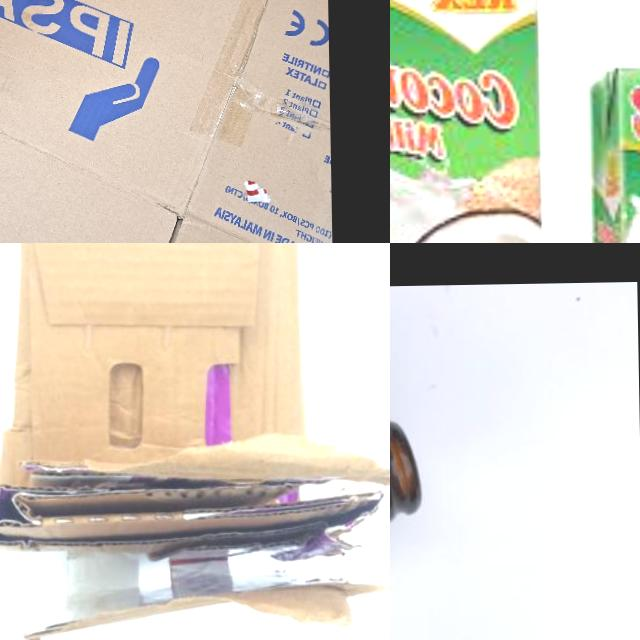caixinha: (390, 0, 546, 243)
papelão: (0, 243, 390, 640), (0, 0, 333, 243)
